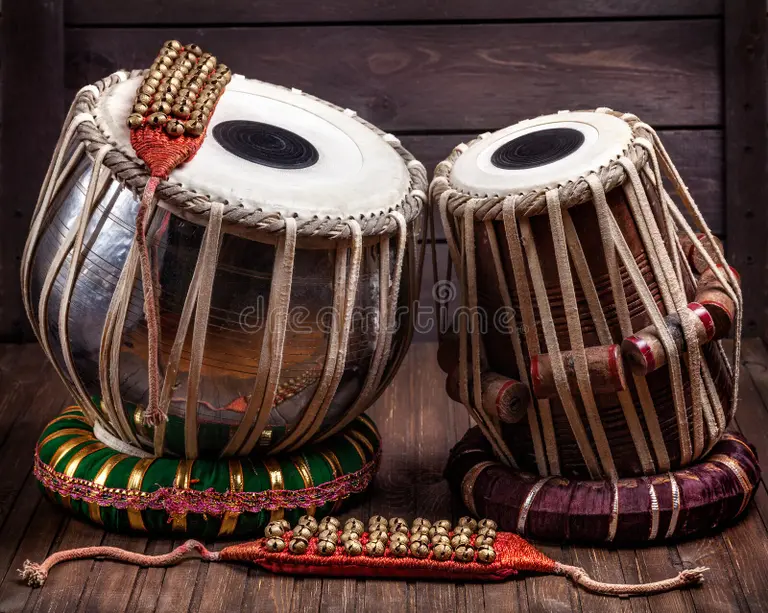tabla: (33, 66, 432, 442), (430, 104, 742, 471)
